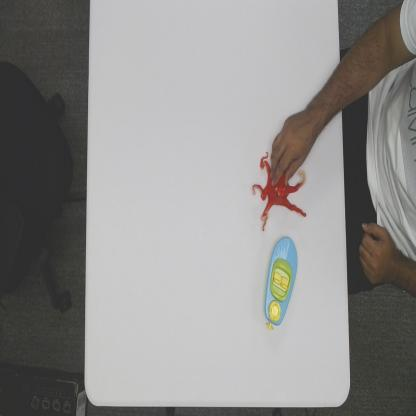Arm: (312, 27, 403, 124)
Boat: (264, 236, 298, 328)
Hand: (271, 112, 314, 180)
Octopus: (254, 155, 311, 225)
